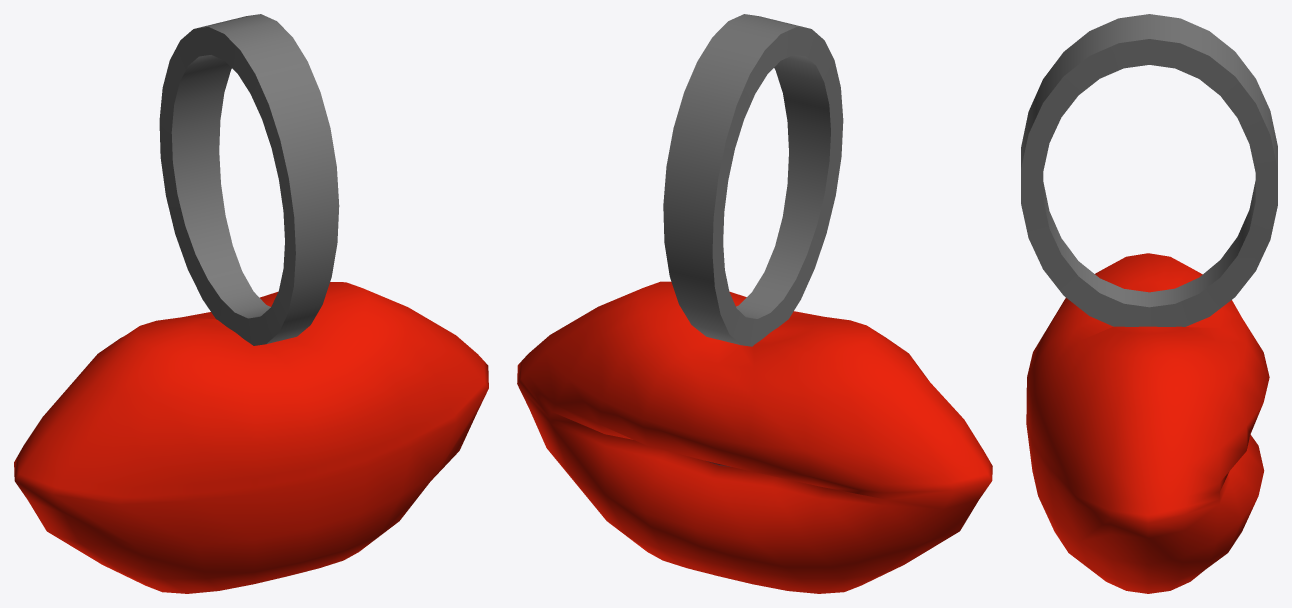
The model's file is Lip_Bead.fbx.
The picture shows the model from 3 angles, left to right: view 1: azimuth 30°, elevation 25°; view 2: azimuth 150°, elevation 25°; view 3: azimuth 270°, elevation 25°; orthographic projection. The views are drawn at different scales.
Parts seen in each view (by area): view 1: Lip.002, Cylinder.008; view 2: Lip.002, Cylinder.008; view 3: Lip.002, Cylinder.008.
Part boxes in pixels (<box>): Lip.002: <box>14,282,488,593</box>; Cylinder.008: <box>159,14,339,345</box>; Lip.002: <box>517,281,992,593</box>; Cylinder.008: <box>663,14,843,346</box>; Lip.002: <box>1026,253,1269,593</box>; Cylinder.008: <box>1021,14,1277,326</box>.
Size of the model in its own units: 45.08 by 49.22 by 21.77.
